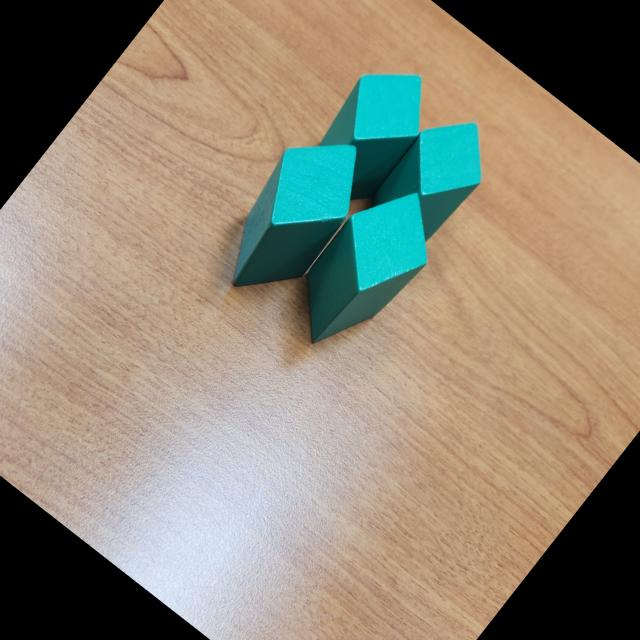green: (199, 115, 385, 317), (274, 168, 458, 368), (295, 48, 448, 212), (360, 100, 508, 258)
